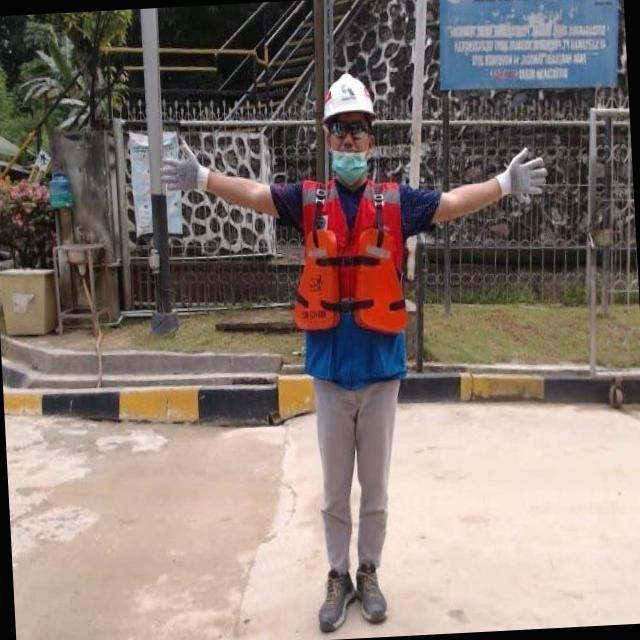vest: (274, 168, 418, 357)
